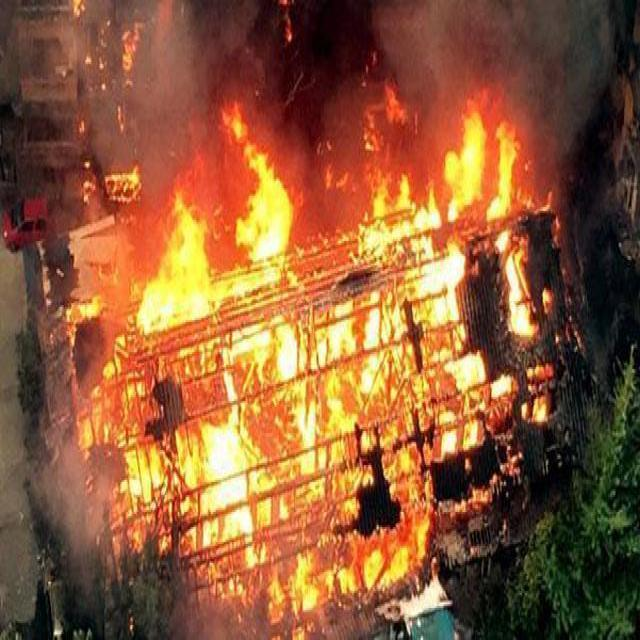Fire: (72, 104, 585, 640)
Smoke: (372, 0, 610, 159), (92, 0, 260, 196), (37, 437, 117, 602)
